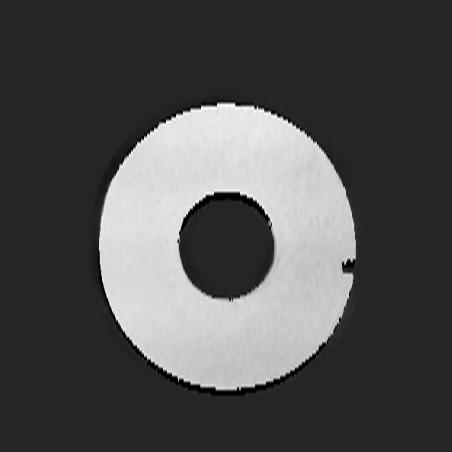defect: (341, 257, 356, 274)
